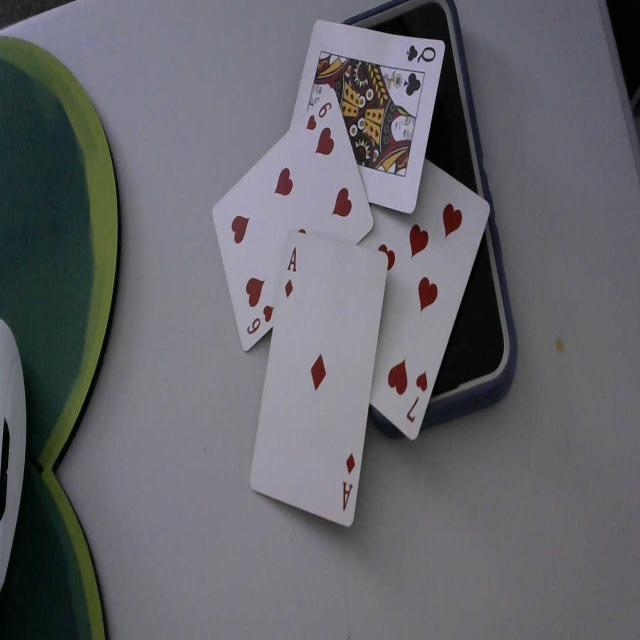6H: (245, 303, 275, 337), (304, 100, 332, 134)
7H: (406, 370, 430, 423)
AD: (341, 451, 355, 513), (284, 247, 298, 299)
QC: (404, 42, 438, 68)
